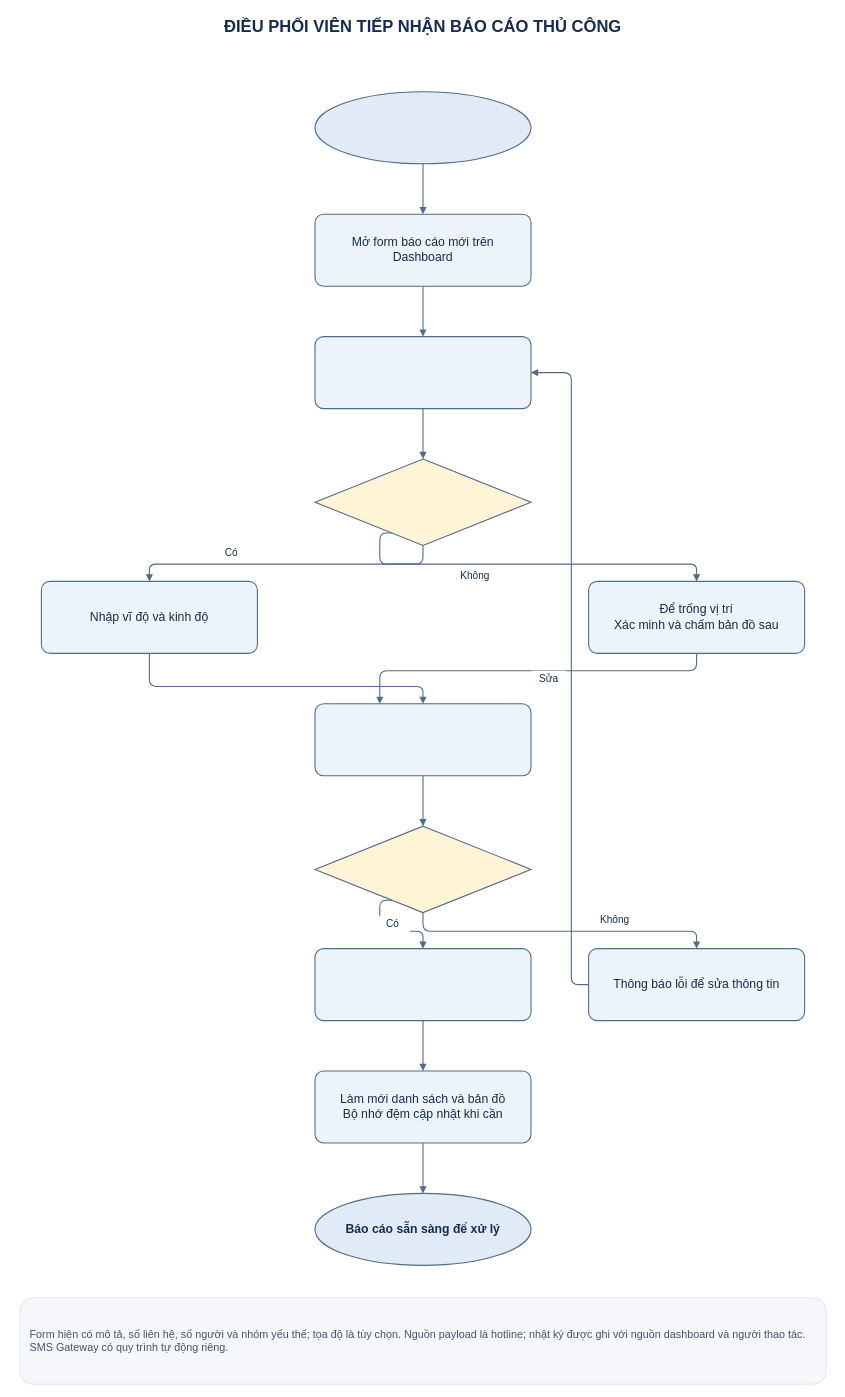
Some shapes in this 845 by 1397 pixel diagram are drawn without their labels. Each missing label, with the centre of its shape:
"Biết tọa độ?" belongs at point (422, 502).
"Dữ liệu hợp lệ?" belongs at point (422, 869).
"Gửi /api/reports/manual" belongs at point (422, 739).
"Lưu báo cáo nguồn hotline Ghi nhật ký người thao tác" belongs at point (422, 984).
"Nhận cuộc gọi hoặc tin báo trực tiếp" belongs at point (422, 127).
"Nhập tình huống, số liên hệ và thông tin người cần hỗ trợ" belongs at point (422, 372).
